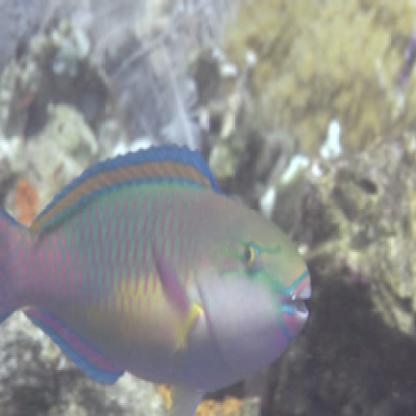parrot: (1, 141, 313, 408)
